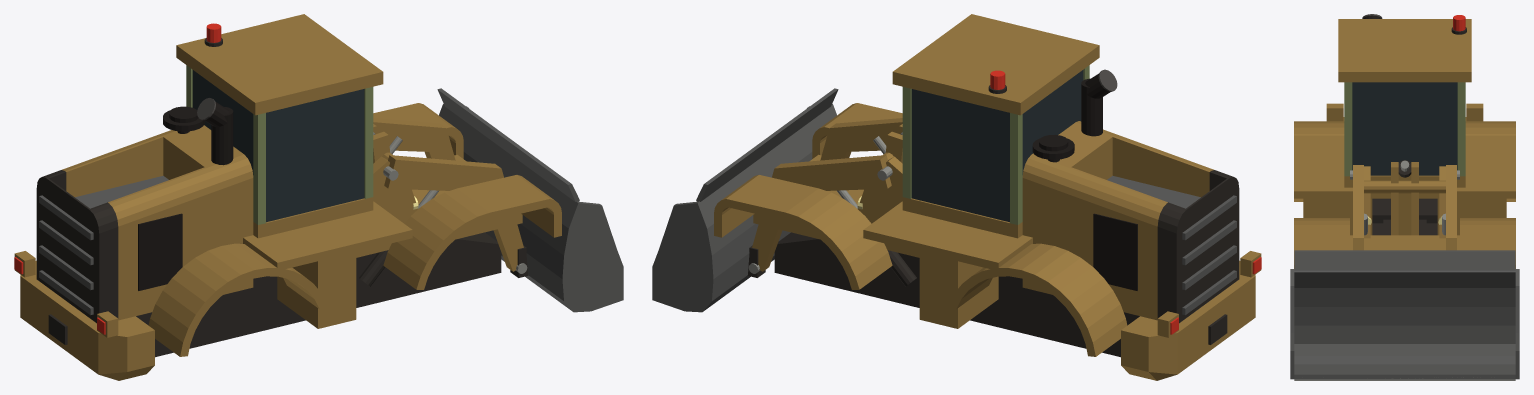
File: base_loader.glb
3 renders of one model, left to right at view 1: azimuth 30°, elevation 25°; view 2: azimuth 150°, elevation 25°; view 3: azimuth 270°, elevation 25°, orthographic. The views are drawn at different scales.
Parts seen in each view (by area): view 1: base_loader; view 2: base_loader; view 3: base_loader.
Part boxes in pixels (left/top/right/bottom): base_loader: left=14, top=14, right=623, bottom=380; base_loader: left=652, top=14, right=1261, bottom=380; base_loader: left=1290, top=14, right=1519, bottom=380.
Size of the model in its own units: 6.28 by 3.36 by 2.95.
